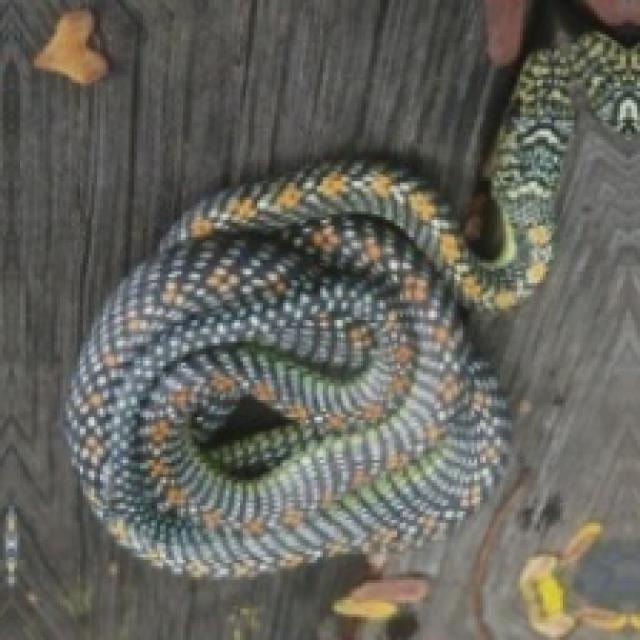paradise tree snake: (66, 163, 506, 574), (431, 94, 637, 634), (157, 166, 443, 277), (69, 269, 146, 497)
